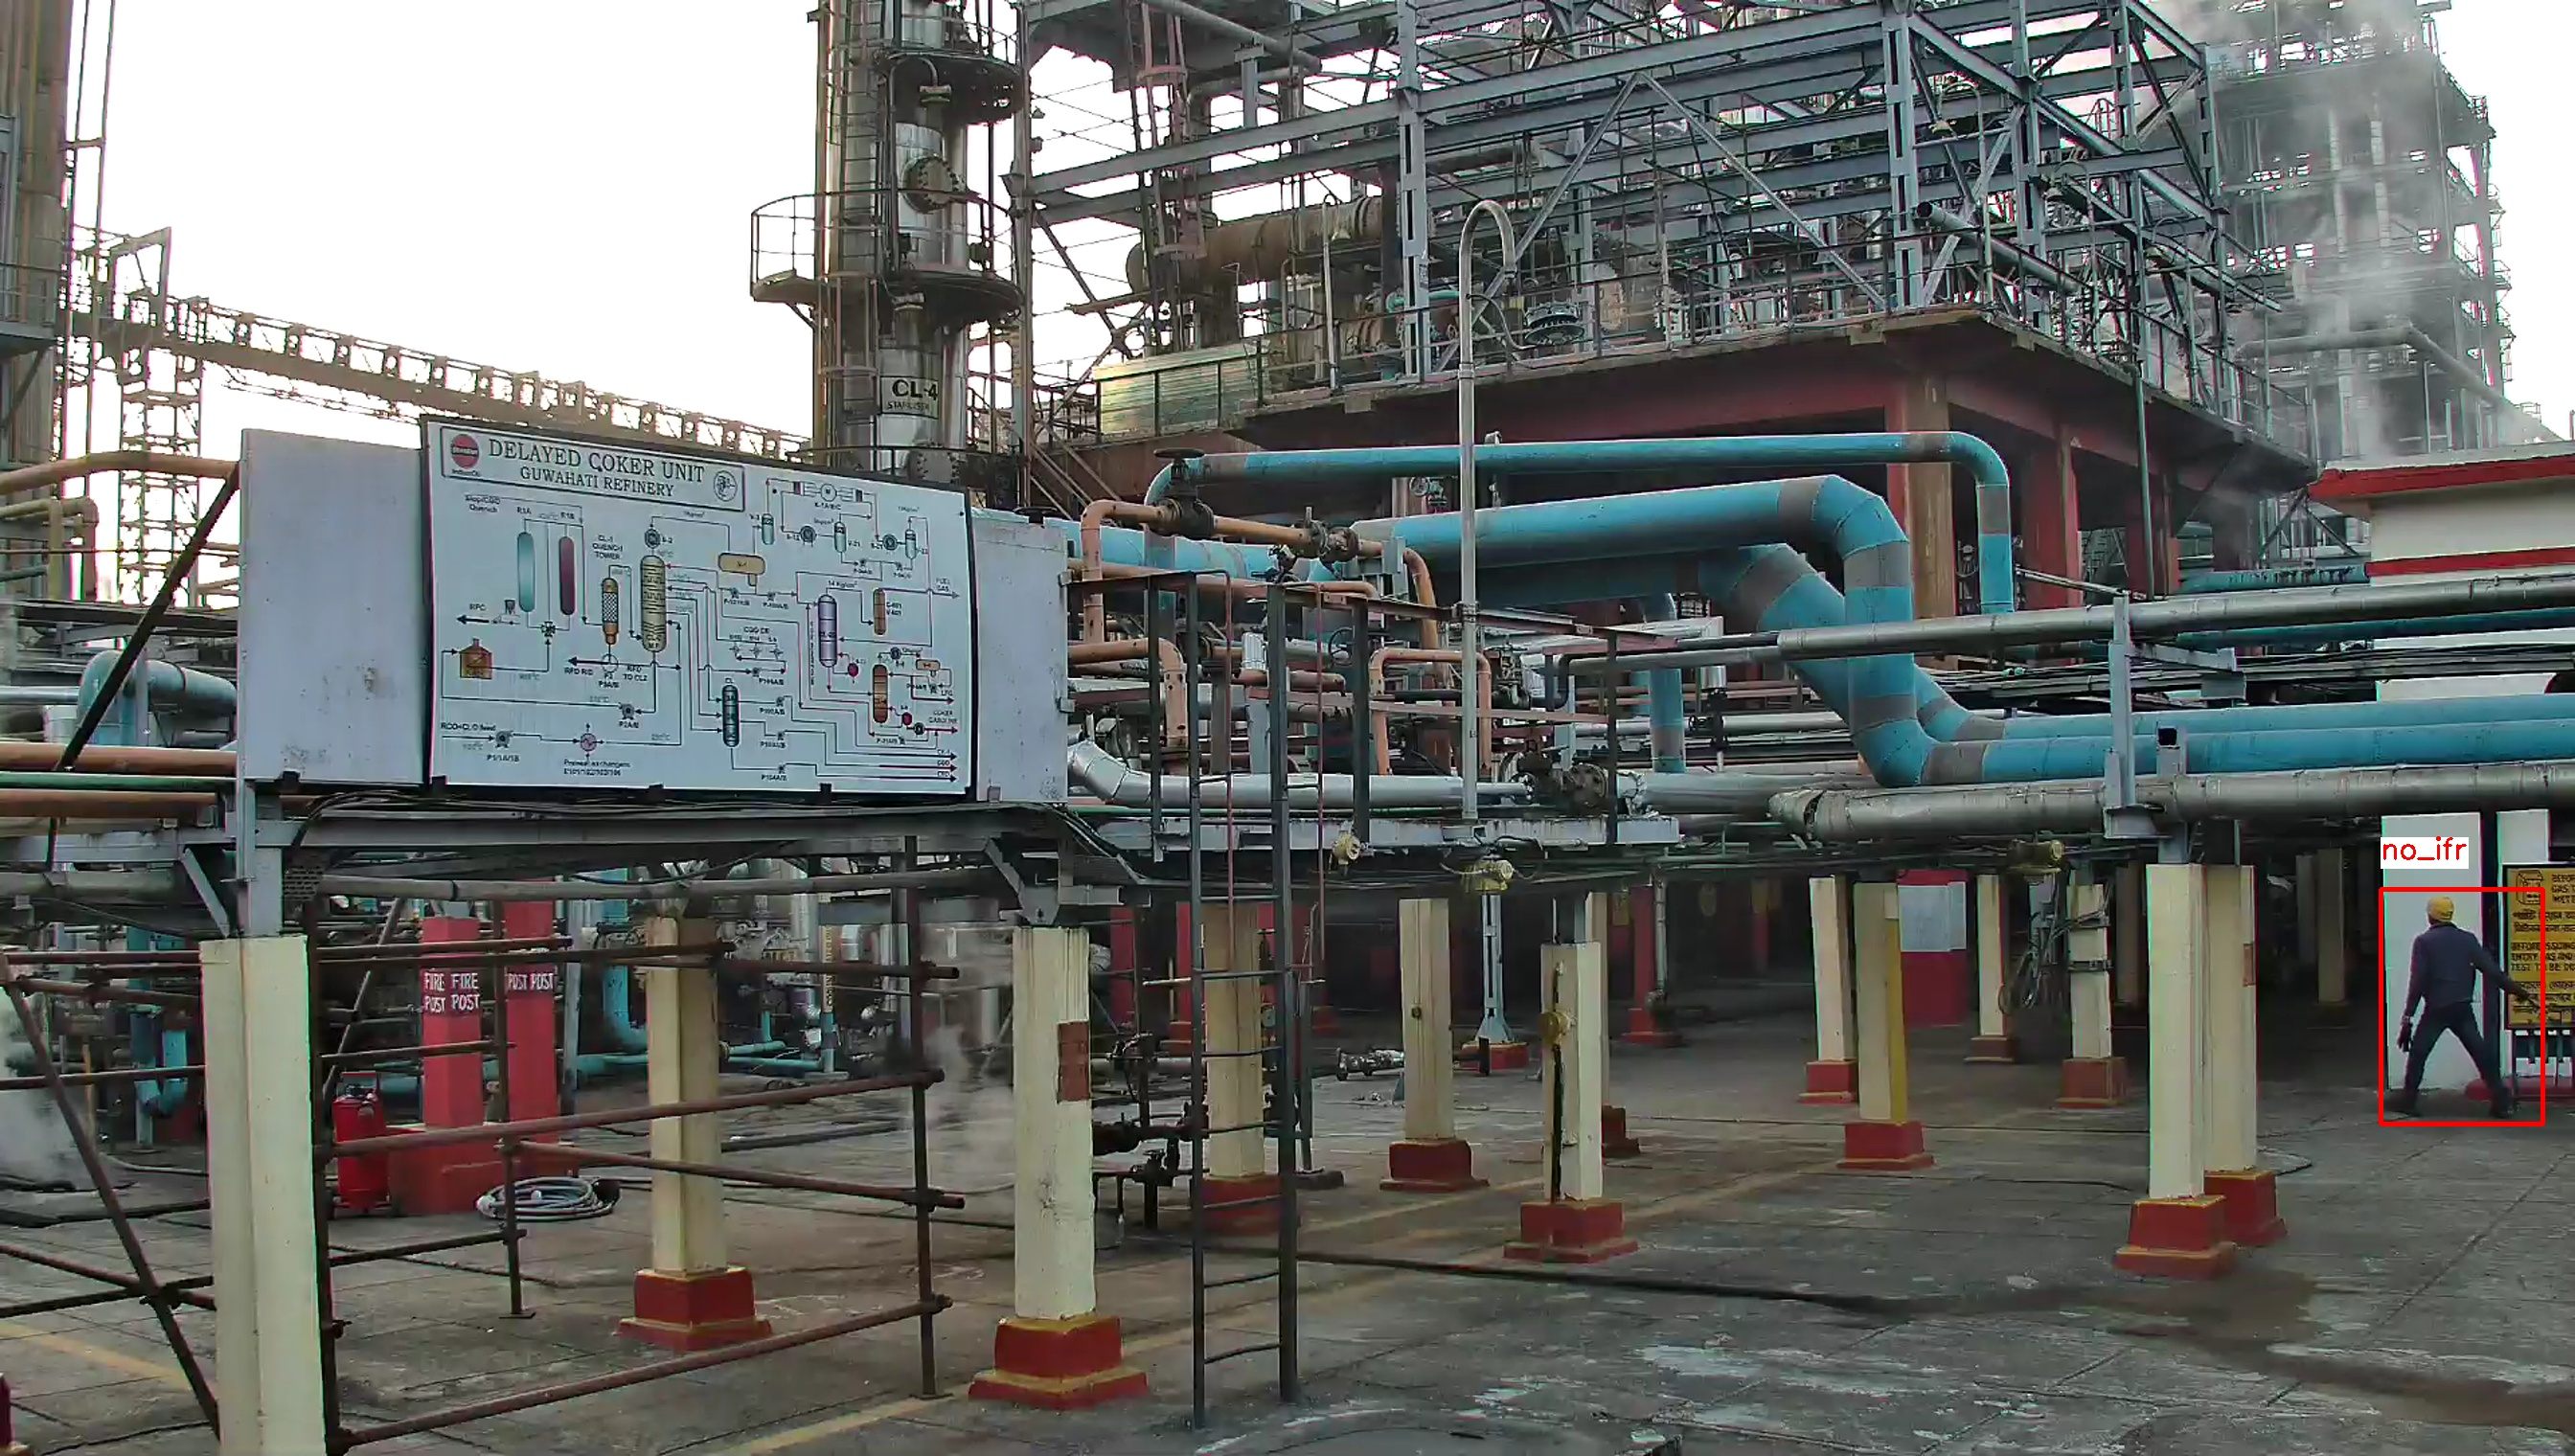Helmets: (2419, 893, 2458, 923)
